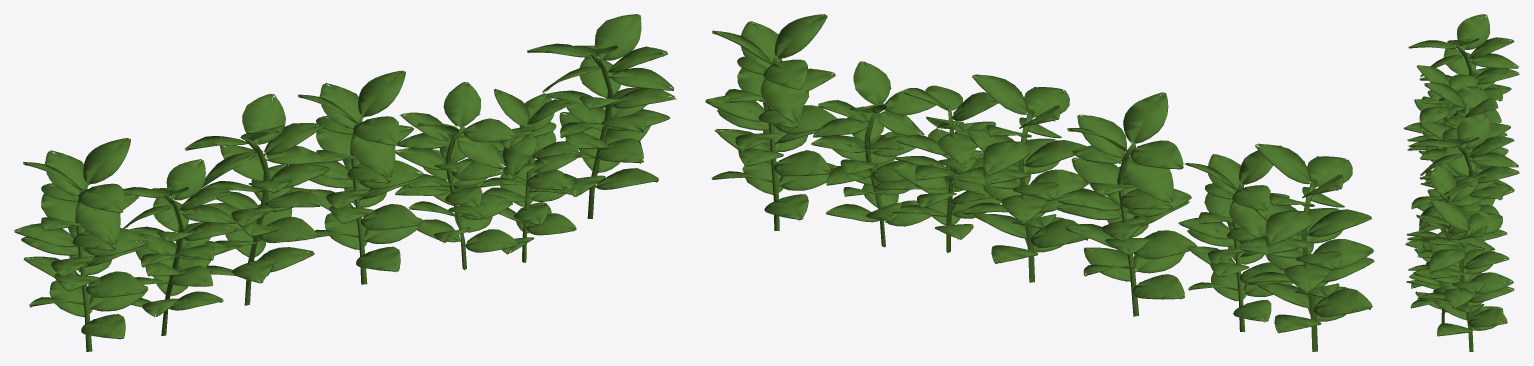
Rendered from filaplantas.glb.
The picture shows the model from 3 angles, left to right: view 1: azimuth 30°, elevation 25°; view 2: azimuth 150°, elevation 25°; view 3: azimuth 270°, elevation 25°; orthographic projection. The views are drawn at different scales.
Parts seen in each view (by area): view 1: BezierCurve; view 2: BezierCurve; view 3: BezierCurve.
Part boxes in pixels (box(x1,y1,x2,y2)): BezierCurve: box(14, 14, 676, 351); BezierCurve: box(705, 14, 1374, 351); BezierCurve: box(1403, 14, 1519, 351).
Bounding box in the file's own units: 2.23 × 0.6839 × 0.4784.
